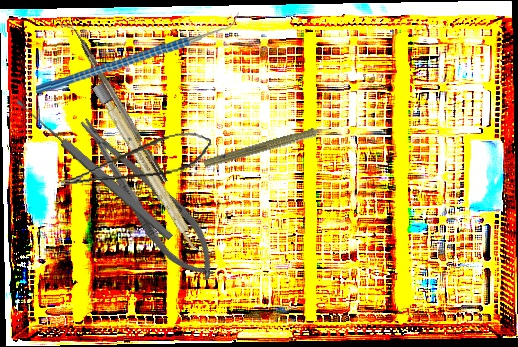Chopper: (60, 17, 168, 189), (36, 7, 239, 97)
Handpiece: (202, 119, 342, 173)
Micro Scissor: (55, 127, 216, 192)
Needle Holder: (65, 104, 230, 292)
Scalpel Handle: (92, 82, 203, 256)
Surgical Spoon: (14, 95, 175, 243)
